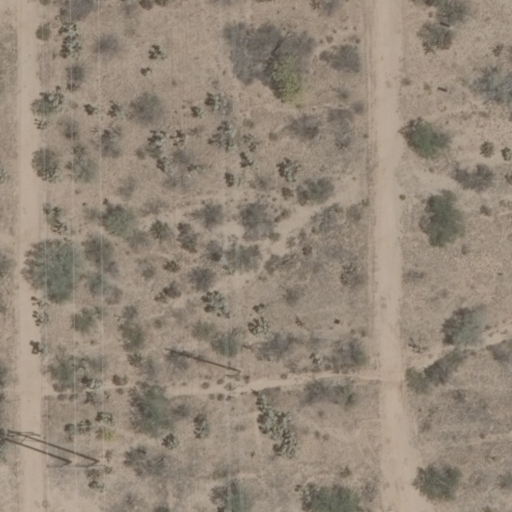DT: (40, 447, 118, 478), (220, 360, 250, 383)
